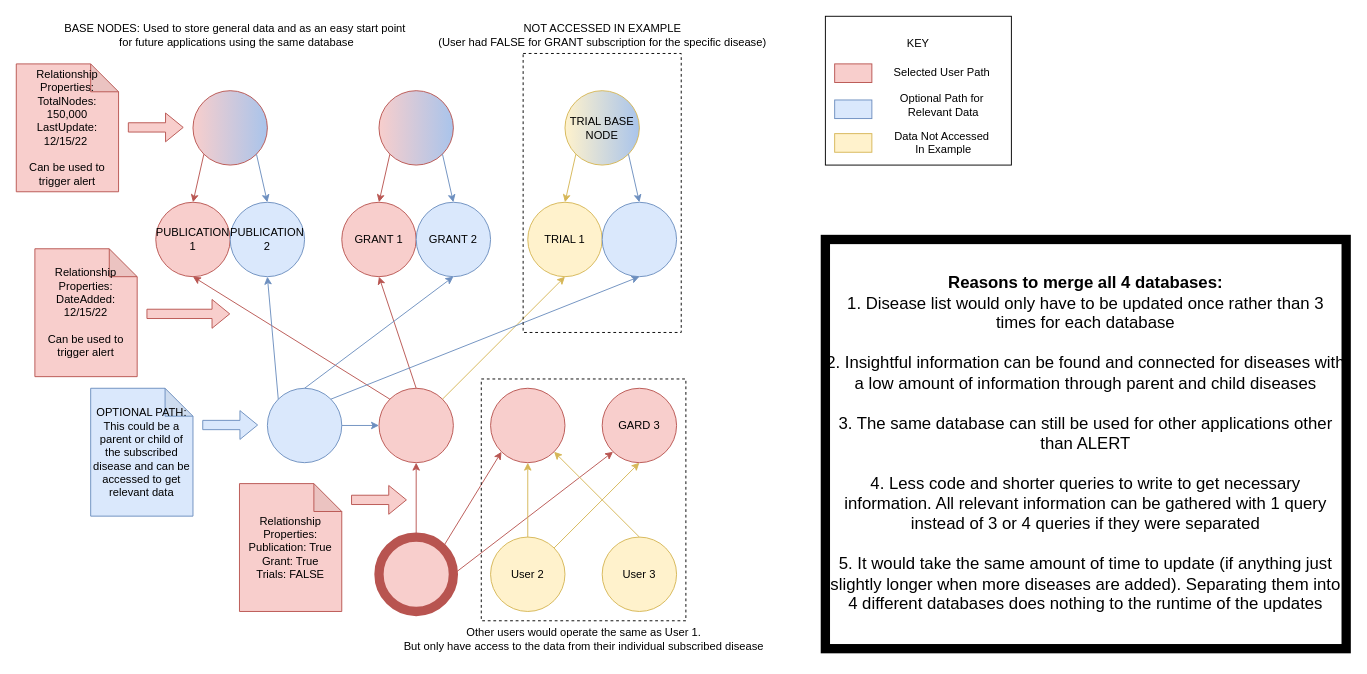
Some shapes in this 1367 by 674 pixel diagram are drawn without their labels. The centre of each missing label's shape, as x and y in pixels:
"GARD 1" belongs at point (415, 425).
"GARD 1 <PARENT>" belongs at point (304, 425).
"GARD 2" belongs at point (527, 425).
"GRANT BASE NODE" belongs at point (415, 127).
"PUBLICATION BASE NODE" belongs at point (229, 127).
"TRIAL 2" belongs at point (639, 239).
"User 1" belongs at point (416, 574).
